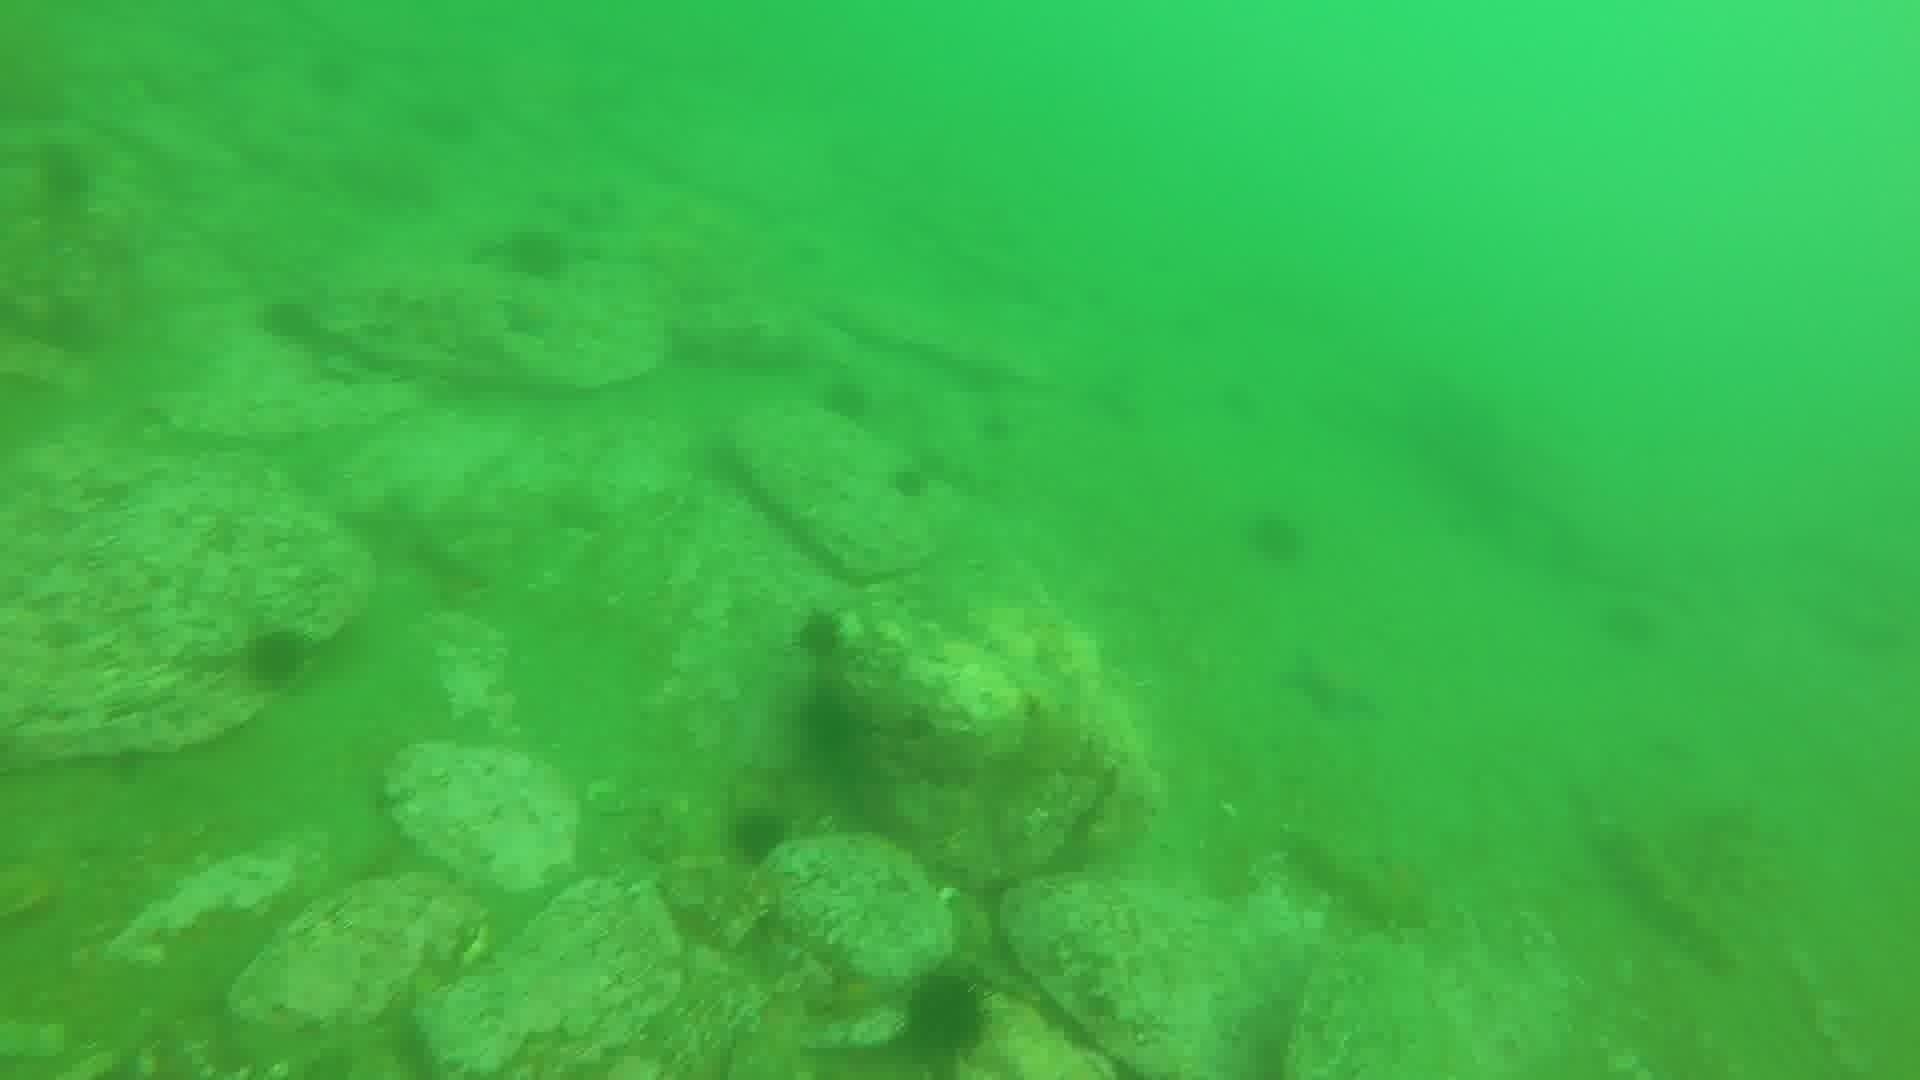echinus: (895, 964, 998, 1065), (789, 683, 873, 767), (237, 624, 314, 694), (723, 802, 796, 869), (495, 224, 570, 286), (1240, 506, 1311, 568), (255, 291, 326, 351), (789, 604, 852, 666), (1596, 595, 1664, 651), (815, 372, 877, 429), (885, 460, 934, 504), (978, 402, 1027, 446)
holothurian: (1588, 814, 1745, 973), (1282, 822, 1439, 938)
starfish: (1279, 646, 1385, 727), (495, 291, 560, 343)
